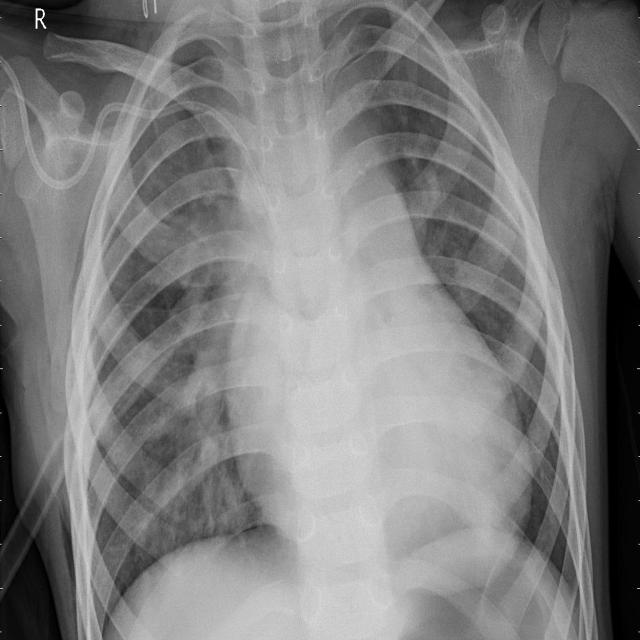low-pneumonia: (149, 334, 238, 537), (157, 153, 235, 320)
